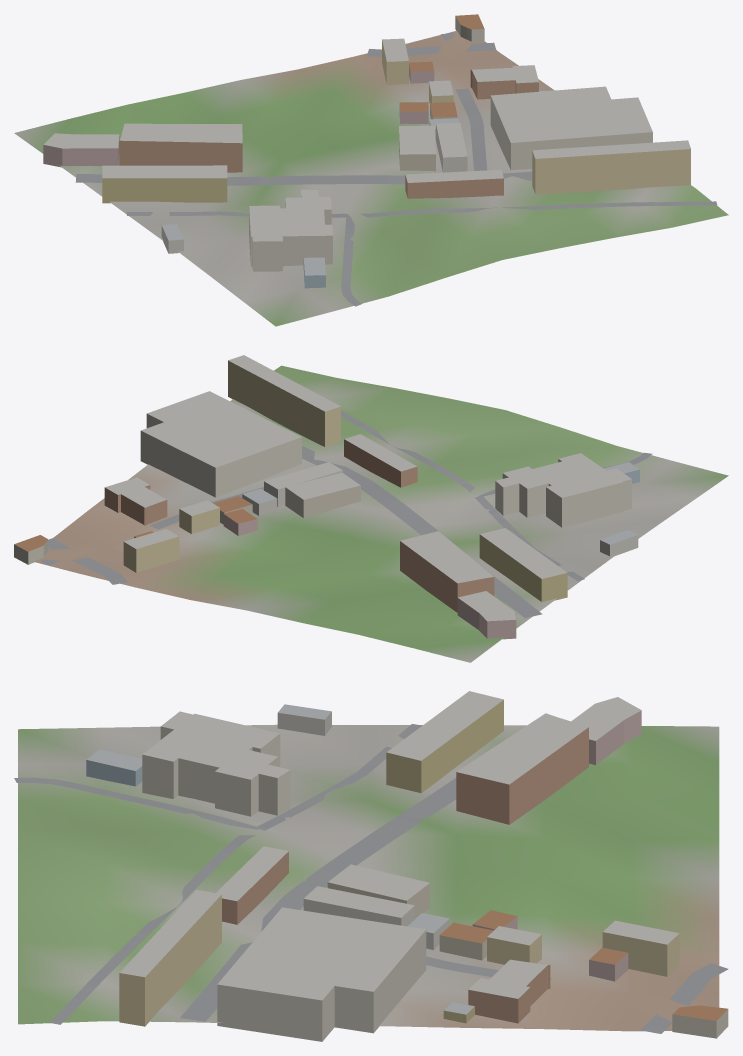
3 renders of one model, top to bottom at view 1: azimuth 30°, elevation 25°; view 2: azimuth 150°, elevation 25°; view 3: azimuth 270°, elevation 25°, orthographic. The views are drawn at different scales.
Parts seen in each view (by area): view 1: Lo; view 2: Lo; view 3: Lo.
Boxes of the visible parts, x1,y1,x2,y2 form: Lo: (14,14,728,326); Lo: (14,355,728,662); Lo: (14,691,728,1041).
Bounding box in the file's own units: 274 × 23.82 × 261.
